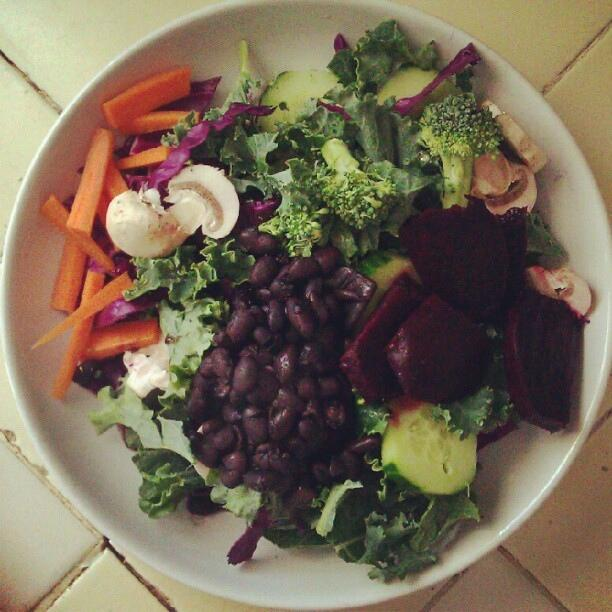broccoli: (419, 91, 504, 209), (318, 138, 400, 230), (258, 207, 322, 258)
carrot: (30, 272, 134, 348), (51, 268, 106, 399), (40, 194, 114, 272), (103, 66, 194, 129), (66, 126, 116, 238), (84, 318, 159, 360), (51, 238, 86, 312), (118, 110, 200, 136), (116, 147, 170, 170), (103, 160, 129, 200)
cucumber: (380, 408, 477, 495), (254, 72, 341, 132), (377, 66, 440, 106)
mushroom: (106, 181, 190, 259), (163, 164, 240, 240), (469, 164, 536, 216), (526, 265, 592, 317), (122, 333, 172, 399), (494, 113, 547, 174)
